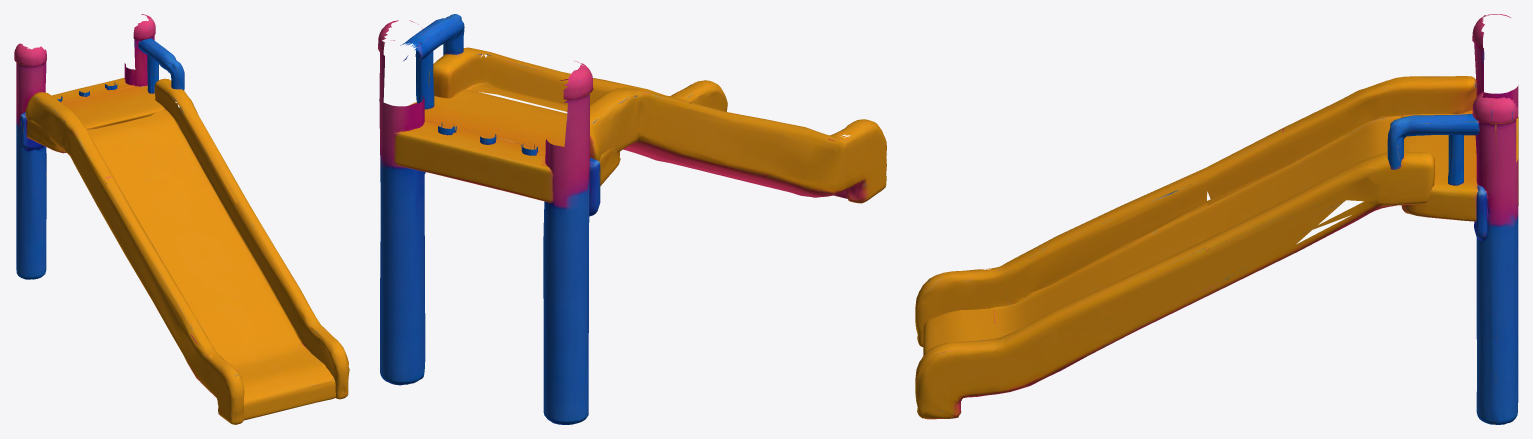
File: straight_slide.glb
3 views of the same model, side by side, from view 1: azimuth 30°, elevation 25°; view 2: azimuth 150°, elevation 25°; view 3: azimuth 270°, elevation 25° (orthographic). The views are drawn at different scales.
Size of what is drawn, in the model's own units: 0.6258 by 1 by 1.68.
1 material, 1 textured.
